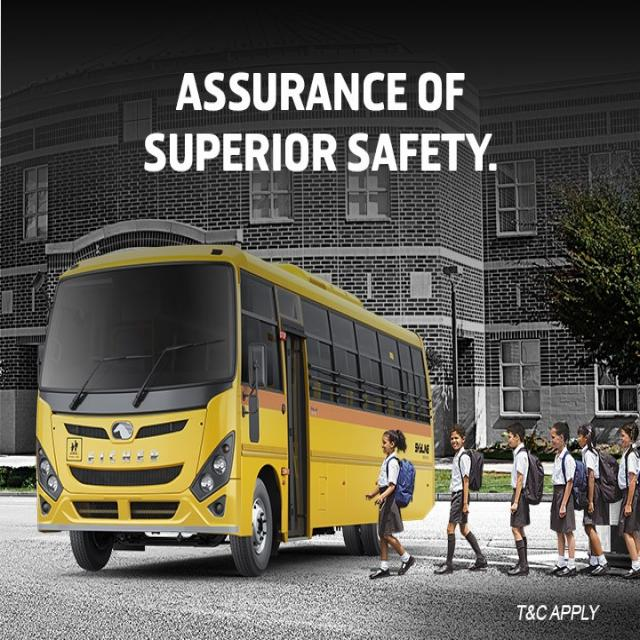bus: (36, 246, 437, 572)
